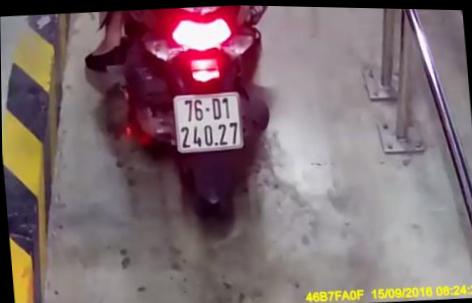LP: (171, 87, 246, 153)
